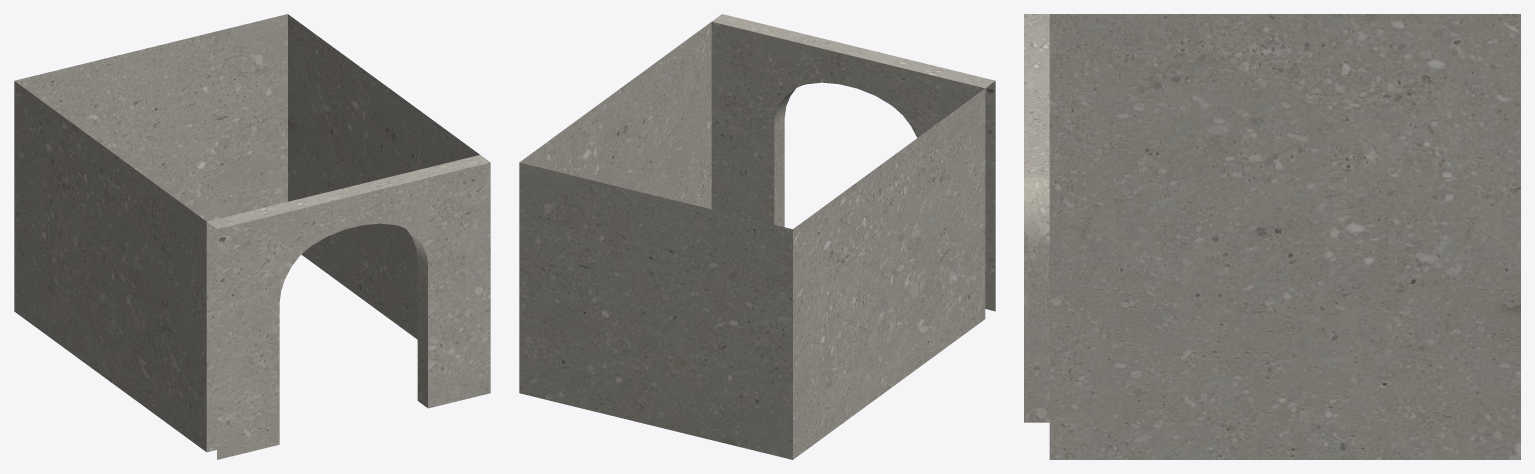
The model's file is ESCENARIO 5 PARED INICIAL).fbx.
The picture shows the model from 3 angles, left to right: view 1: azimuth 30°, elevation 25°; view 2: azimuth 150°, elevation 25°; view 3: azimuth 270°, elevation 25°; orthographic projection. The views are drawn at different scales.
Parts seen in each view (by area): view 1: Cube.005; view 2: Cube.005; view 3: Cube.005.
Part boxes in pixels (x1,y1,x2,y2): Cube.005: (14,14,490,459); Cube.005: (519,14,995,459); Cube.005: (1024,14,1520,459).
Bounding box in the file's own units: 248 × 200 × 319.
Materials: 1 (1 with a texture image).
